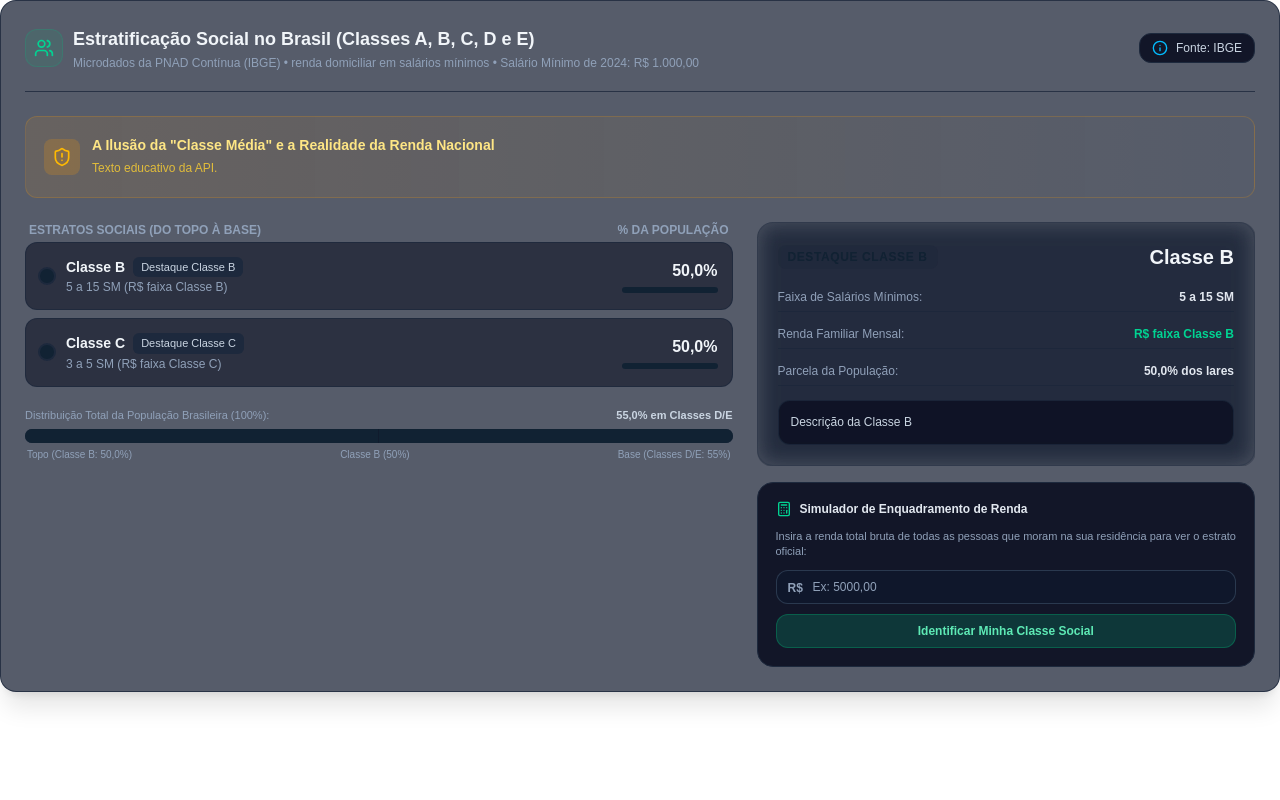
it: SocialClassesExplainer › renda fora das faixas informa que não foi possível enquadrar
Expected: the text "Descrição da Classe B" is shown, [778,400,1234,445]
Type "100" into the field named "Renda familiar mensal". click: coordinates (1006, 587)
box: [776,570,1236,604]
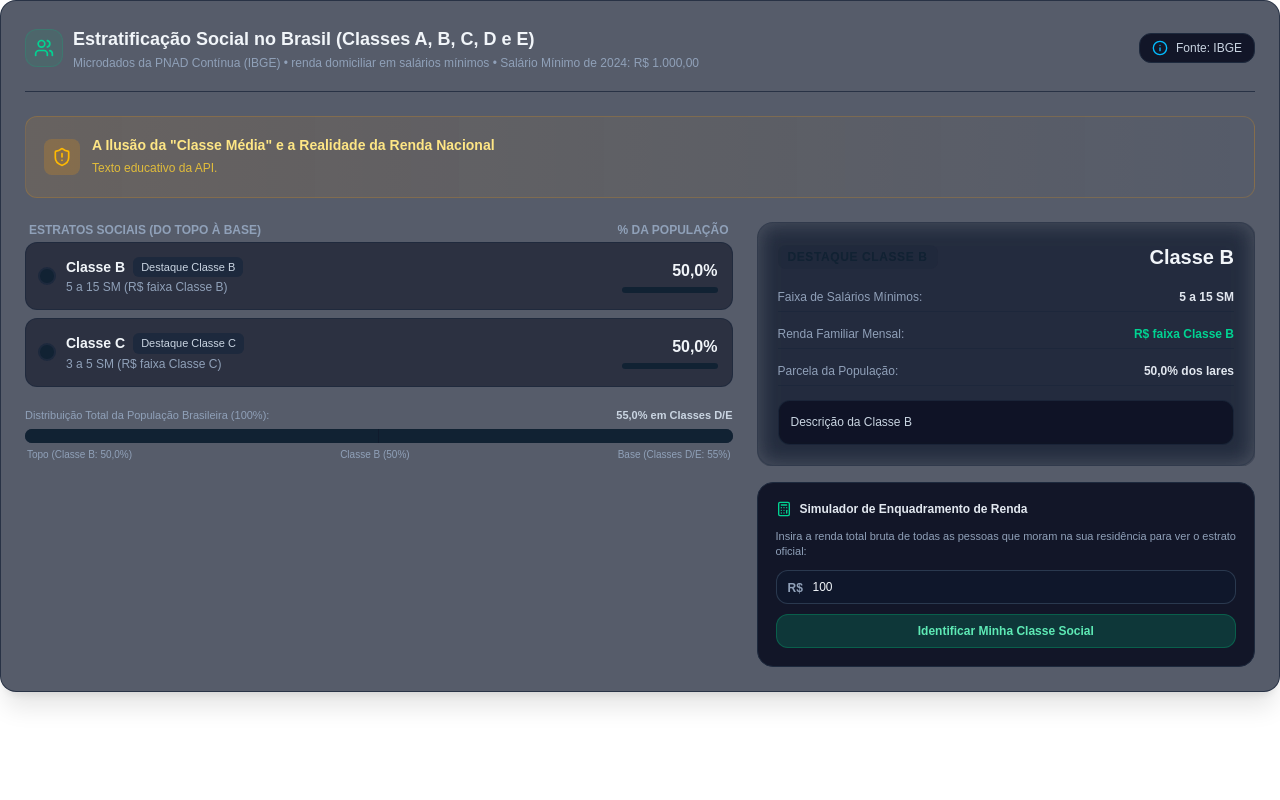
Click the button "Identificar Minha Classe Social". click: coordinates (1006, 631)
box: [776,614,1236,648]
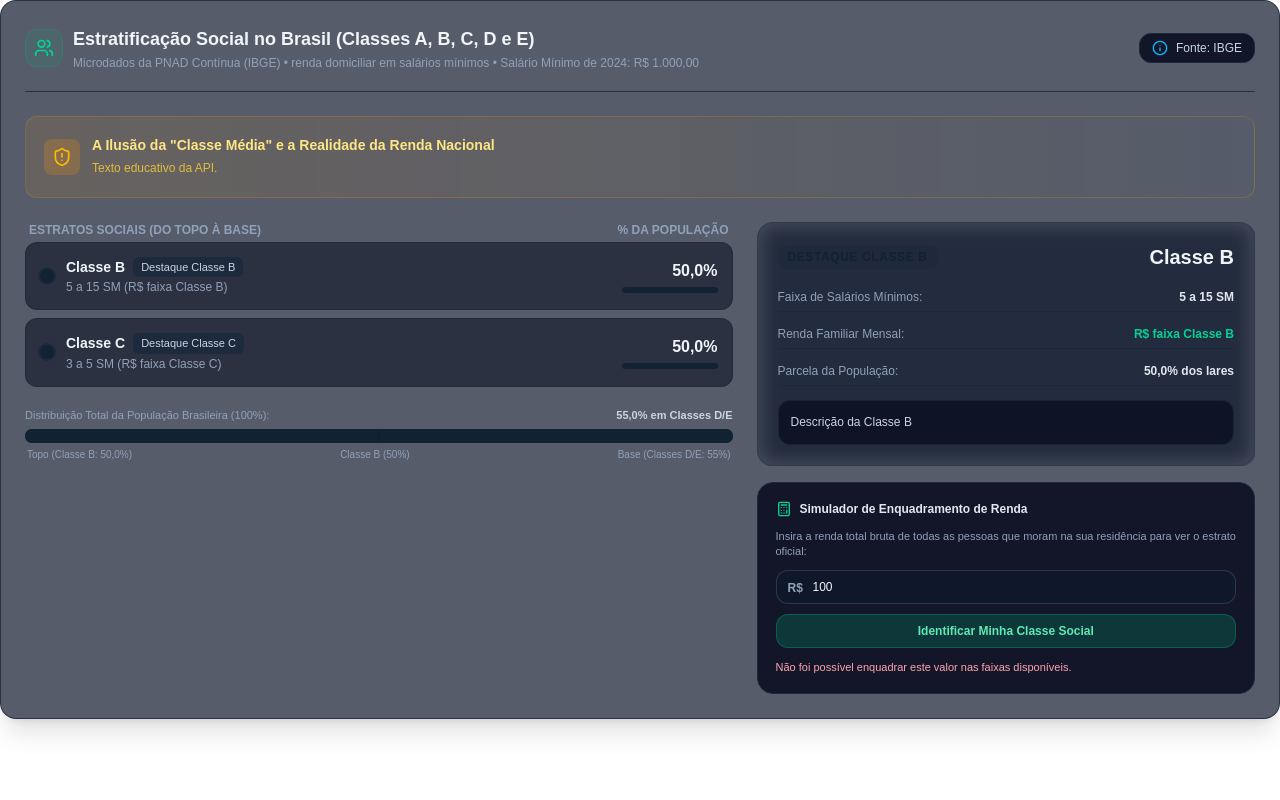
Expected: the message shows "Não foi possível enquadrar", [776,661,1072,673]
